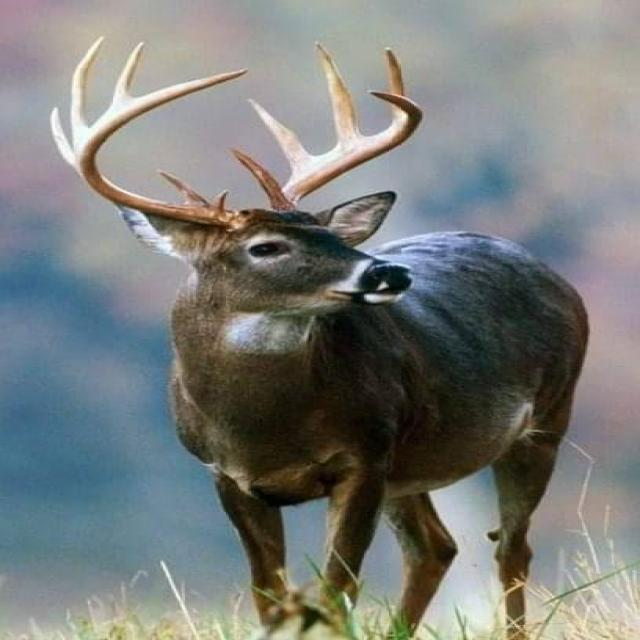L-G1: (231, 149, 282, 201)
L-G2: (247, 98, 311, 171)
L-G3: (316, 44, 364, 149)
L-G4: (109, 42, 144, 107)
R-F: (77, 68, 249, 229)
R-G1: (156, 170, 211, 206)
R-G3: (72, 36, 105, 151)
